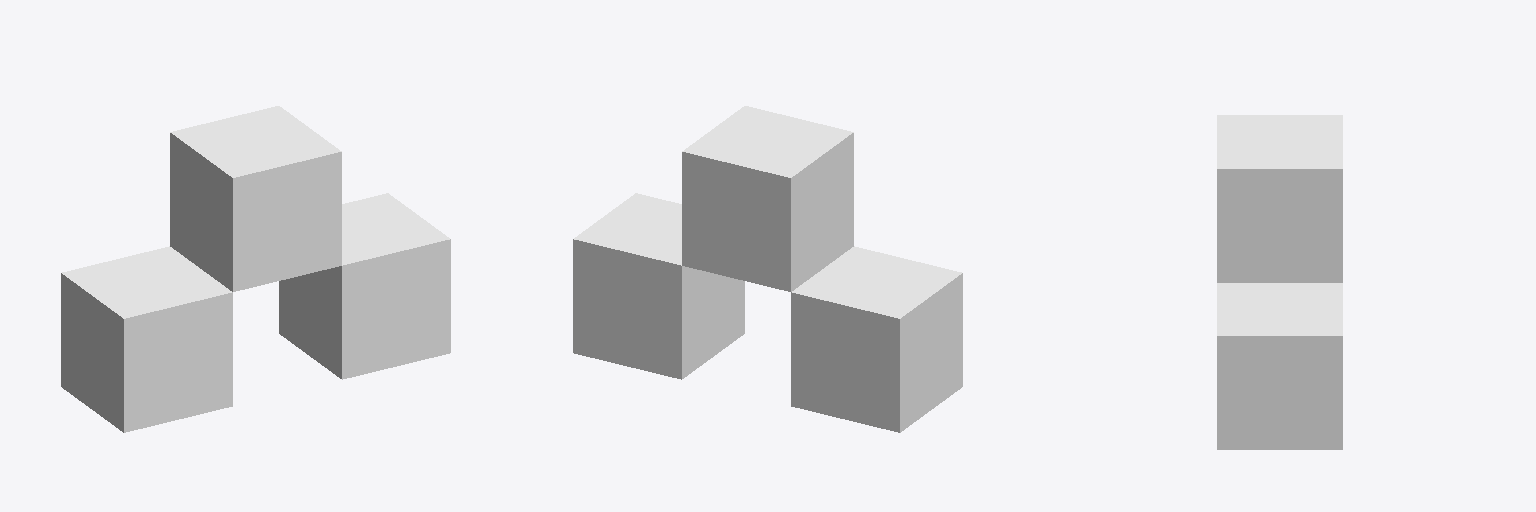
The model's file is eye4.obj.
3 views of the same model, side by side, from view 1: azimuth 30°, elevation 25°; view 2: azimuth 150°, elevation 25°; view 3: azimuth 270°, elevation 25° (orthographic).
Parts seen in each view (by area): view 1: eye4; view 2: eye4; view 3: eye4.
Boxes of the visible parts, box(x1,y1,x2,y2) form: eye4: box(61, 106, 450, 432); eye4: box(573, 106, 962, 432); eye4: box(1217, 115, 1342, 449).
Size of the model in its own units: 0.3 by 0.2 by 0.1.